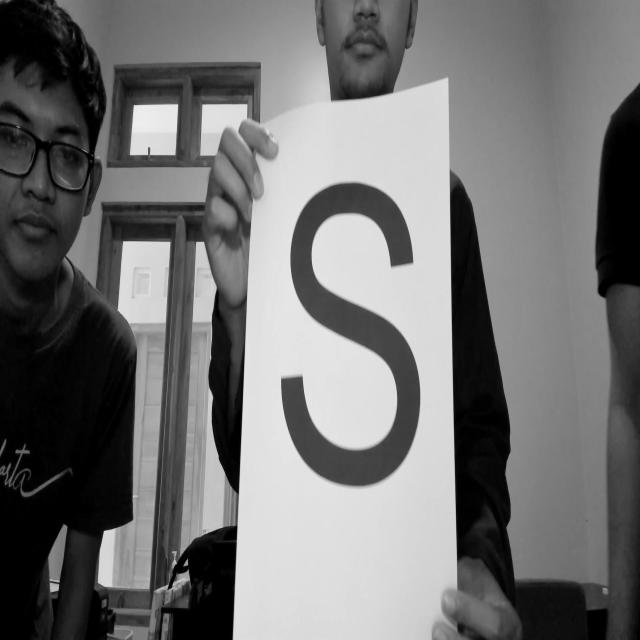s: (270, 148, 434, 519)
